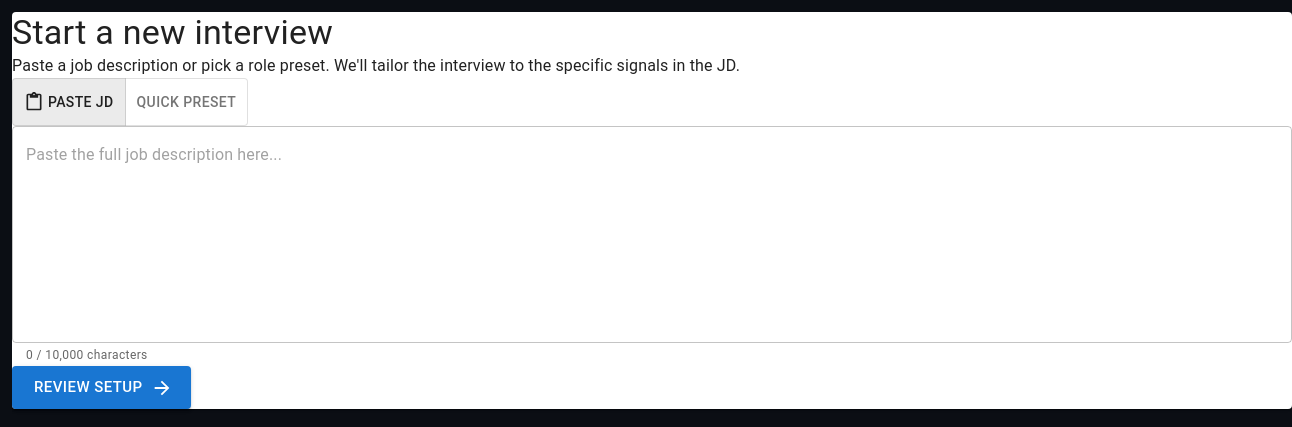
Test: JdInput › switches to preset mode and shows role chips
Click the button with aria-label "Select role preset" at [186, 102], box 124,78 -> 248,126
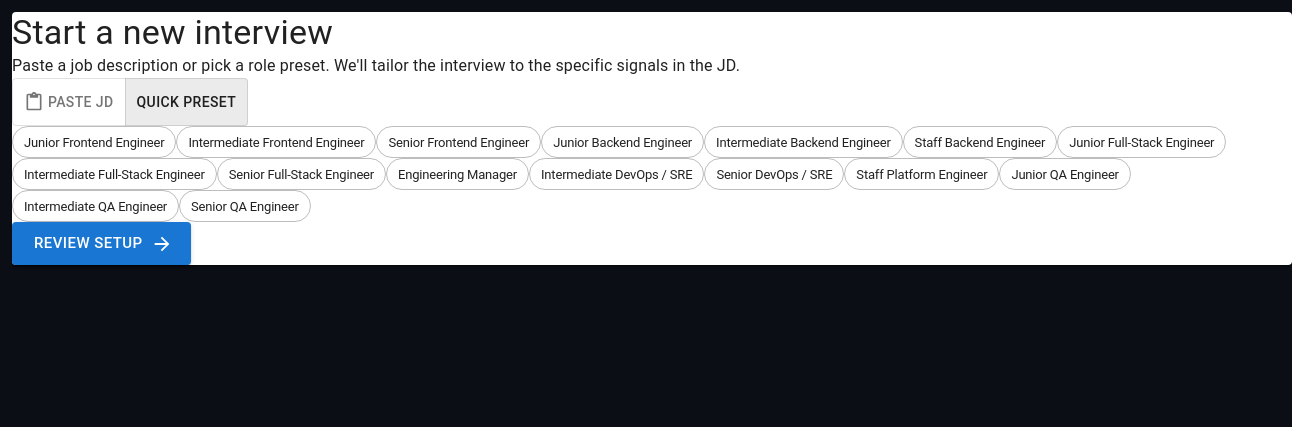
Now the element named "role presets" is shown, box 12,126 -> 1291,222
Now the text "Senior Frontend Engineer" is shown, box 378,133 -> 540,152
Now the text "Staff Backend Engineer" is shown, box 904,133 -> 1056,152
